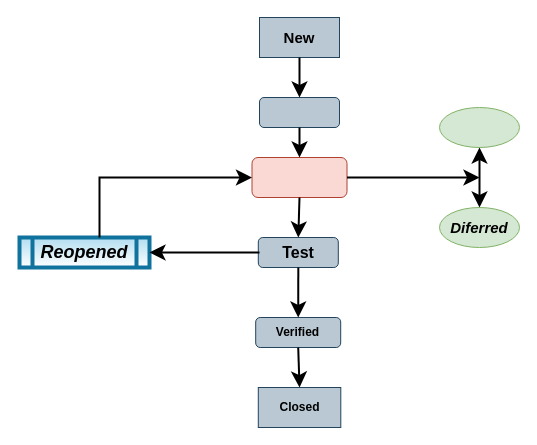
The diagram is 537 pixels wide and 445 high, and some of its shapes have lost their labels. Each missing label, with the centre of its shape:
"Active" goes at (x=299, y=177).
"Assign" goes at (x=299, y=112).
"Resected" goes at (x=479, y=127).
